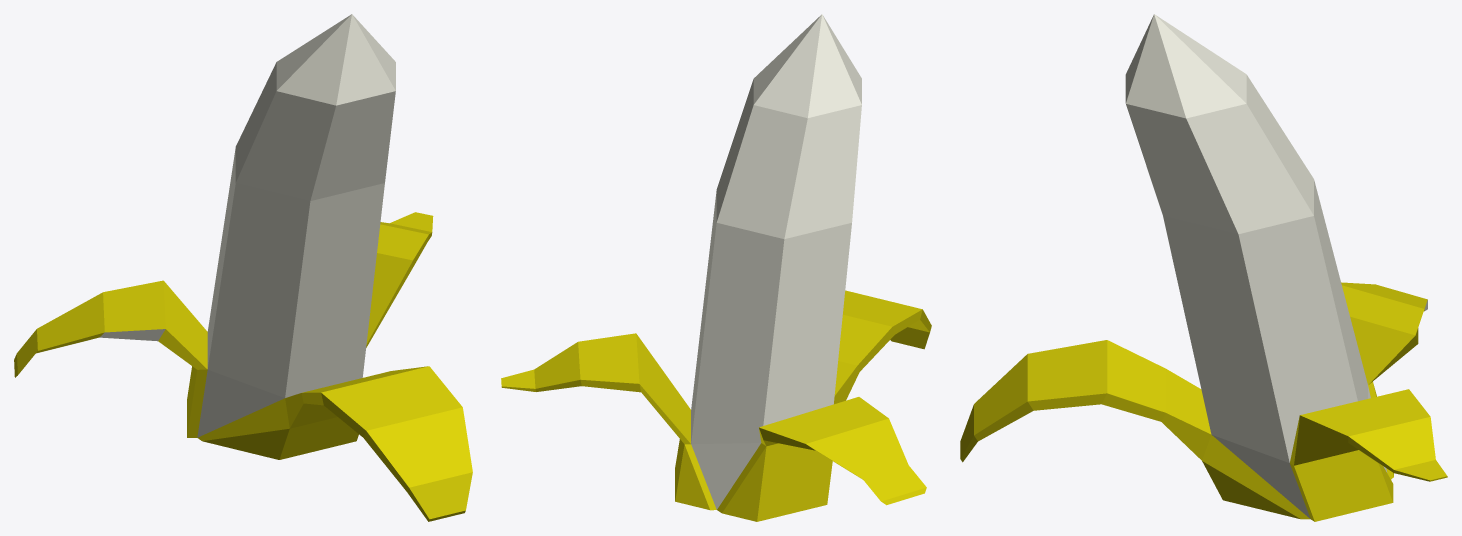
The model's file is banana.fbx.
3 renders of one model, left to right at view 1: azimuth 30°, elevation 25°; view 2: azimuth 150°, elevation 25°; view 3: azimuth 270°, elevation 25°, orthographic. The views are drawn at different scales.
Visible parts, largest first — view 1: pCylinder22; view 2: pCylinder22; view 3: pCylinder22.
Boxes of the visible parts, x1,y1,x2,y2 form: pCylinder22: (14,14,472,521); pCylinder22: (501,14,931,521); pCylinder22: (960,14,1447,521).
Bounding box in the file's own units: 0.0286 × 0.0285 × 0.0269.
